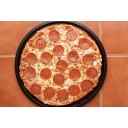pepperonipizza: (20, 23, 102, 105)
